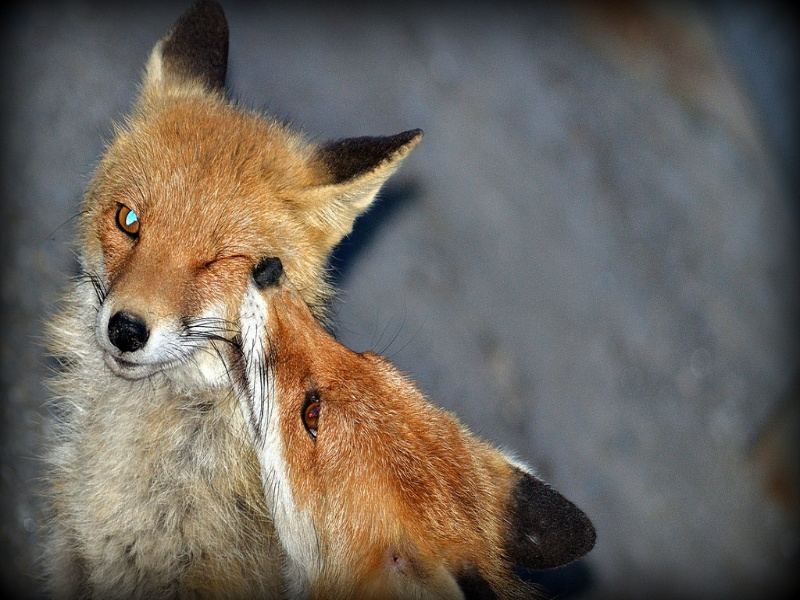fox: (18, 13, 418, 581), (239, 251, 596, 600)
